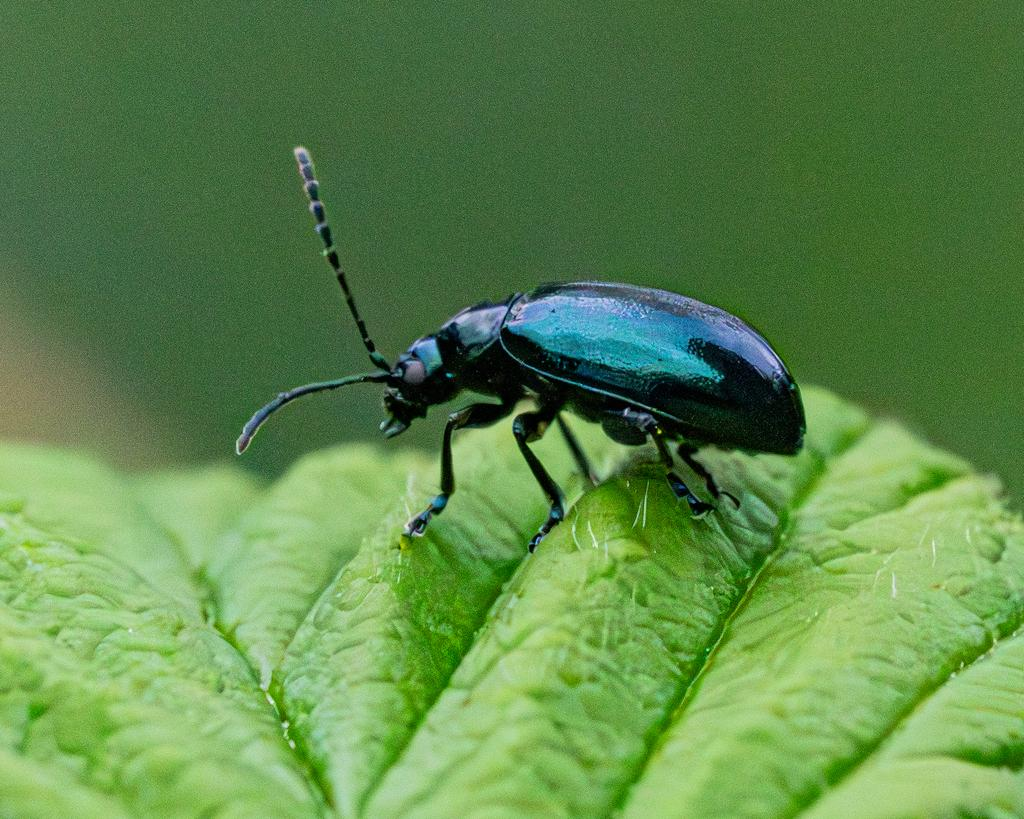flea_beetle: (182, 98, 909, 651)
